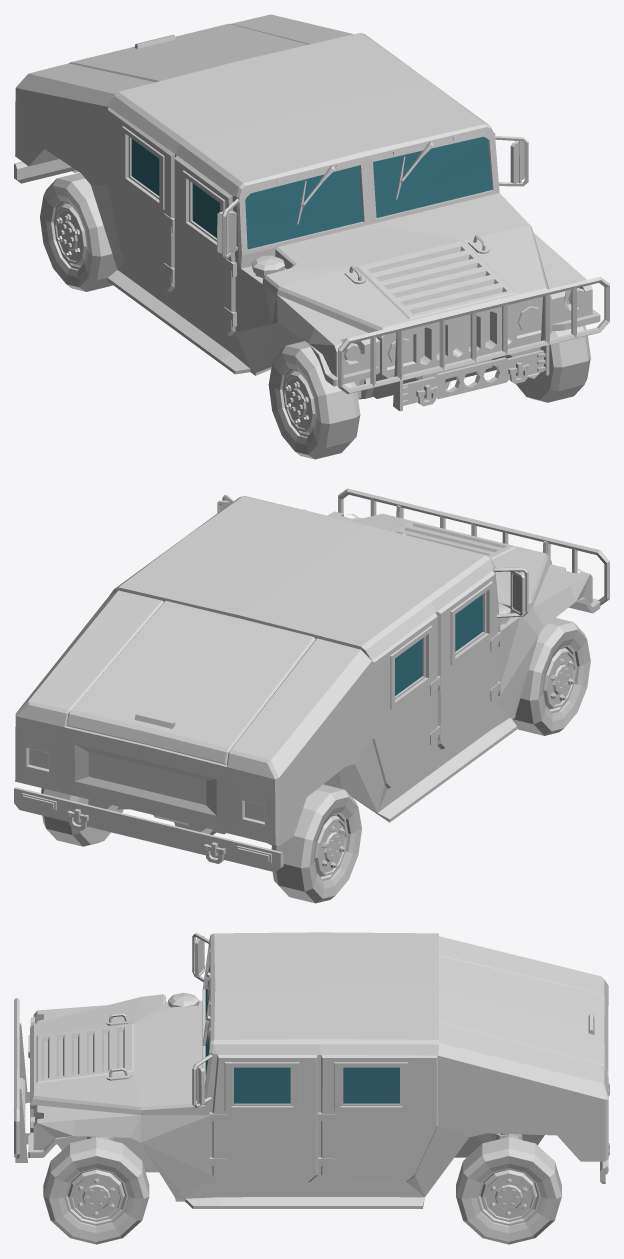
The picture shows the model from 3 angles, top to bottom: view 1: azimuth 30°, elevation 25°; view 2: azimuth 150°, elevation 25°; view 3: azimuth 270°, elevation 25°; orthographic projection. The views are drawn at different scales.
Visible parts, largest first — view 1: SM_Veh_Light_Armored_Car_01, SM_Veh_Light_Armored_Car_Glass_01, SM_Veh_Light_Armored_Car_Wheel_fr, SM_Veh_Light_Armored_Car_Wheel_rl, SM_Veh_Light_Armored_Car_Wheel_fl; view 2: SM_Veh_Light_Armored_Car_01, SM_Veh_Light_Armored_Car_Wheel_rl, SM_Veh_Light_Armored_Car_Wheel_fr, SM_Veh_Light_Armored_Car_Glass_01, SM_Veh_Light_Armored_Car_Wheel_rr; view 3: SM_Veh_Light_Armored_Car_01, SM_Veh_Light_Armored_Car_Wheel_fl, SM_Veh_Light_Armored_Car_Wheel_rr, SM_Veh_Light_Armored_Car_Glass_01.
Boxes of the visible parts, left/top/right/bottom form: SM_Veh_Light_Armored_Car_01: left=14, top=14, right=609, bottom=411; SM_Veh_Light_Armored_Car_Glass_01: left=131, top=136, right=492, bottom=249; SM_Veh_Light_Armored_Car_Wheel_fr: left=268, top=341, right=360, bottom=459; SM_Veh_Light_Armored_Car_Wheel_rl: left=40, top=172, right=117, bottom=291; SM_Veh_Light_Armored_Car_Wheel_fl: left=516, top=325, right=590, bottom=402; SM_Veh_Light_Armored_Car_01: left=14, top=488, right=609, bottom=872; SM_Veh_Light_Armored_Car_Wheel_rl: left=271, top=784, right=361, bottom=903; SM_Veh_Light_Armored_Car_Wheel_fr: left=512, top=618, right=590, bottom=735; SM_Veh_Light_Armored_Car_Glass_01: left=395, top=594, right=482, bottom=695; SM_Veh_Light_Armored_Car_Wheel_rr: left=41, top=788, right=123, bottom=846; SM_Veh_Light_Armored_Car_01: left=14, top=932, right=609, bottom=1208; SM_Veh_Light_Armored_Car_Wheel_fl: left=43, top=1137, right=149, bottom=1244; SM_Veh_Light_Armored_Car_Wheel_rr: left=456, top=1137, right=561, bottom=1244; SM_Veh_Light_Armored_Car_Glass_01: left=205, top=966, right=399, bottom=1103.
Bounding box in the file's own units: 2.51 × 1.75 × 4.66.
